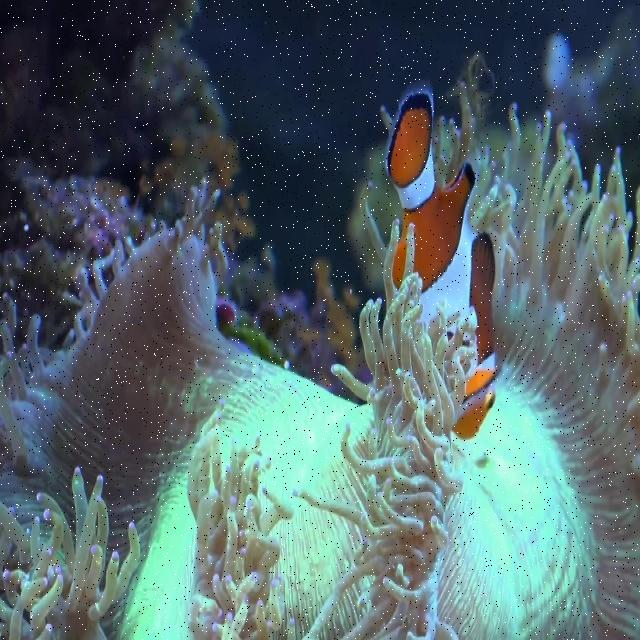fish: (386, 92, 498, 440)
reefs: (0, 80, 639, 639)
